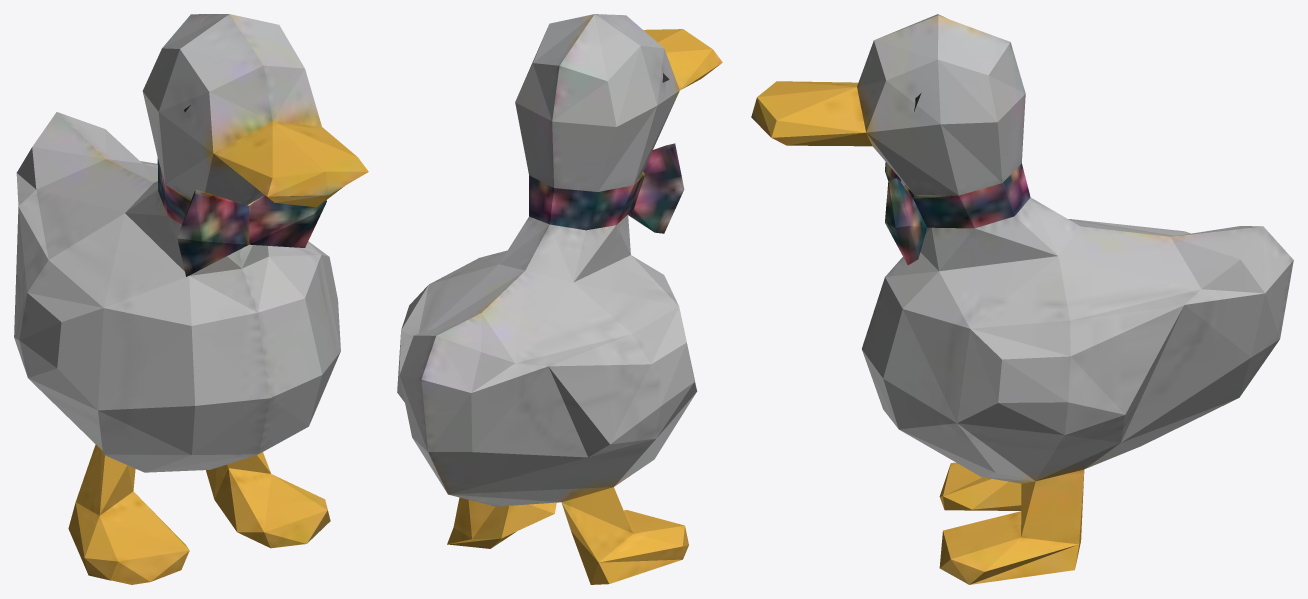
Rendered from patito_peluche.glb.
3 views of the same model, side by side, from view 1: azimuth 30°, elevation 25°; view 2: azimuth 150°, elevation 25°; view 3: azimuth 270°, elevation 25° (orthographic). The views are drawn at different scales.
Parts seen in each view (by area): view 1: Box001; view 2: Box001; view 3: Box001.
Part boxes in pixels (x1=…): Box001: x1=14, y1=14, x2=368, y2=584; Box001: x1=397, y1=14, x2=722, y2=584; Box001: x1=751, y1=14, x2=1293, y2=584.
Bounding box in the file's own units: 0.7779 × 1.48 × 1.38.
Materials: 1 (1 with a texture image).
